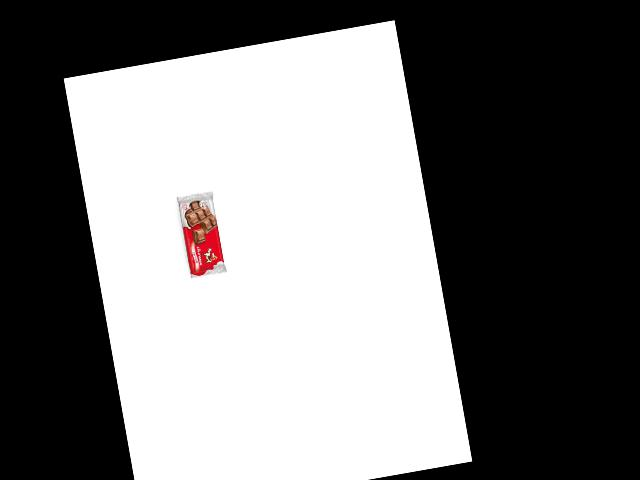chocolate: (175, 188, 227, 279)
